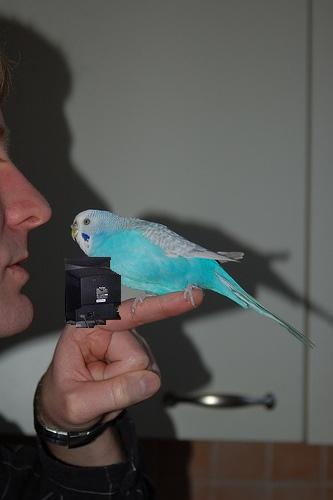tampered: (64, 258, 121, 328)
